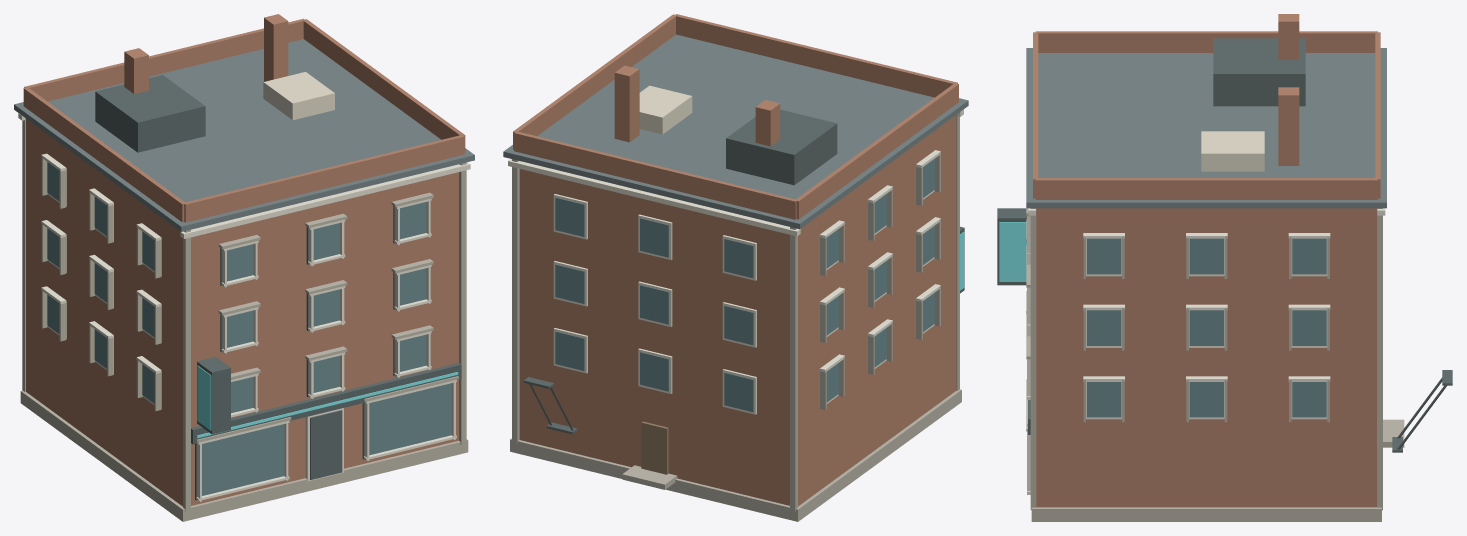
3 views of the same model, side by side, from view 1: azimuth 30°, elevation 25°; view 2: azimuth 150°, elevation 25°; view 3: azimuth 270°, elevation 25° (orthographic). The views are drawn at different scales.
Bounding box in the file's own units: 13.9 × 16.44 × 17.3.
